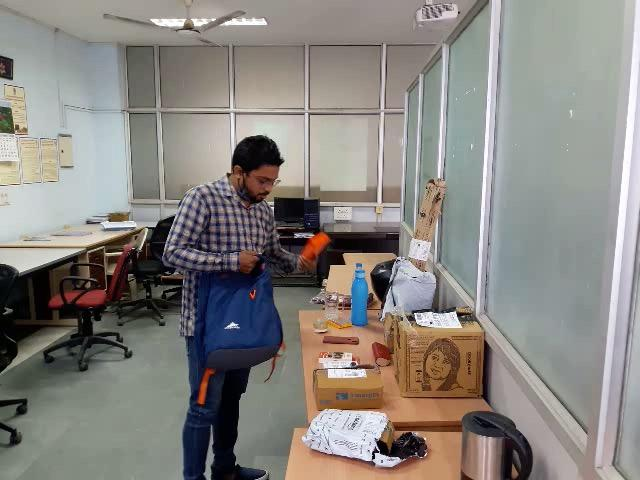shoplifting: (125, 226, 361, 381)
